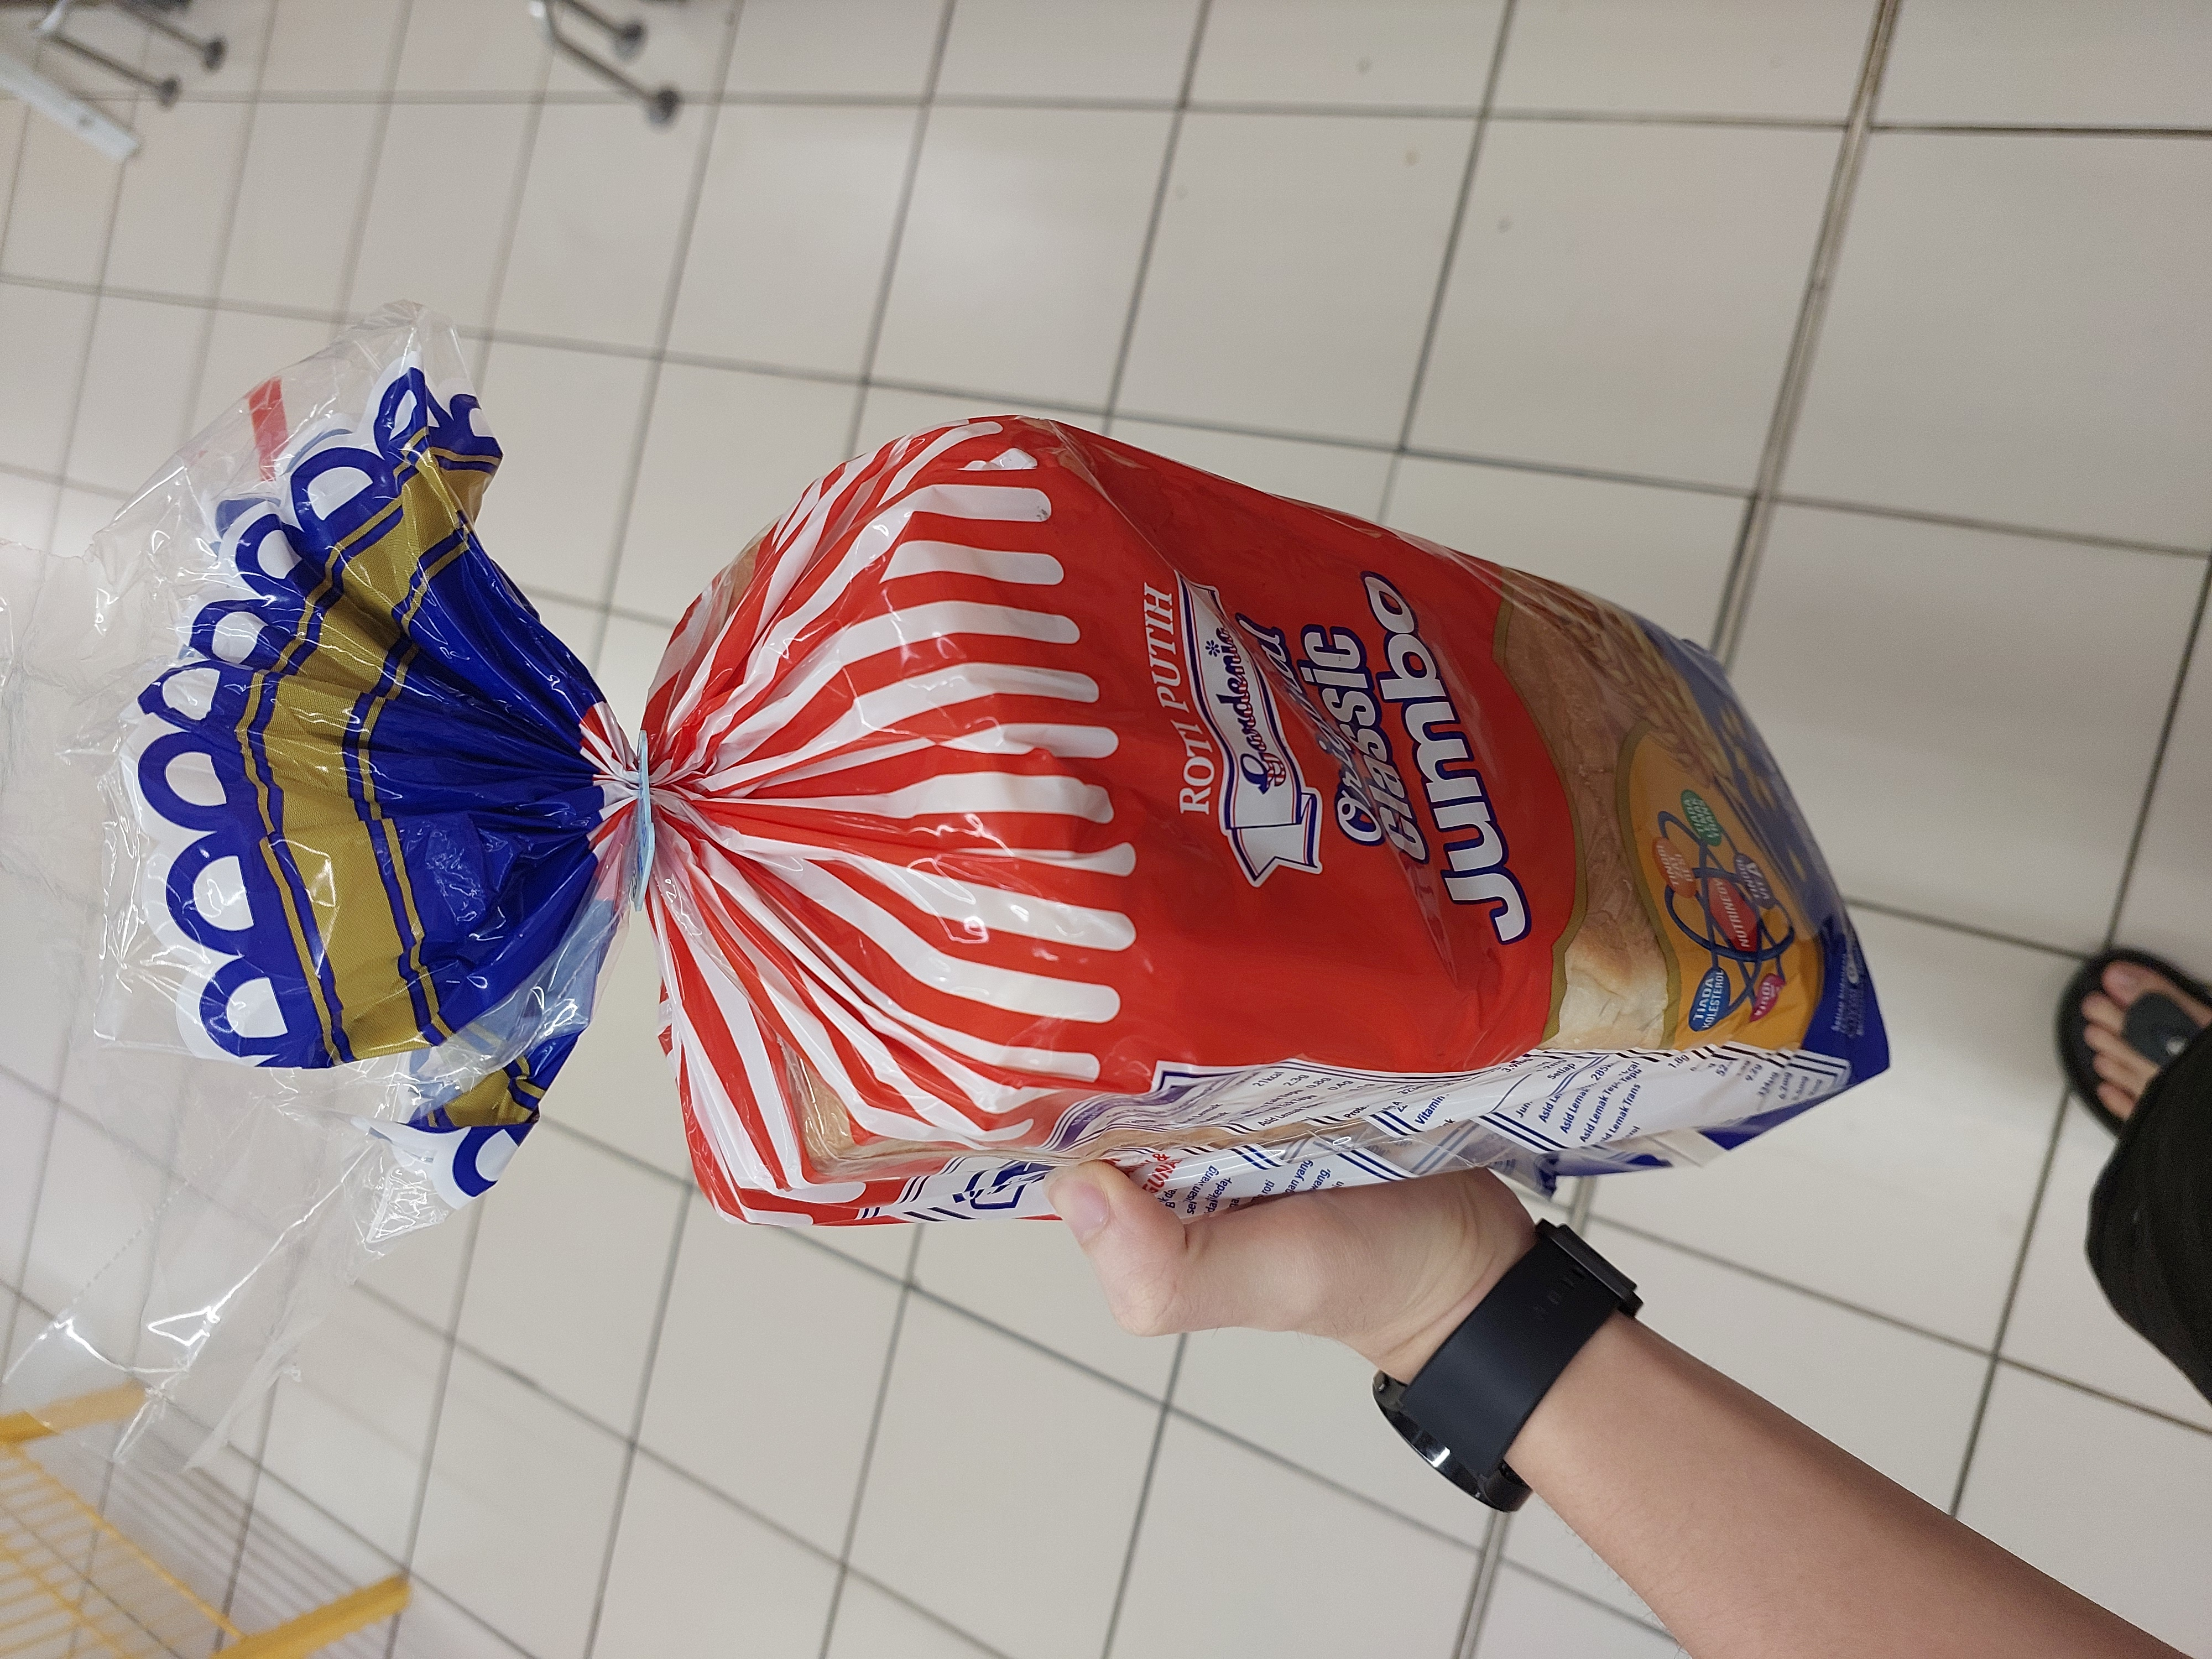bread: (89, 411, 1898, 1230)
